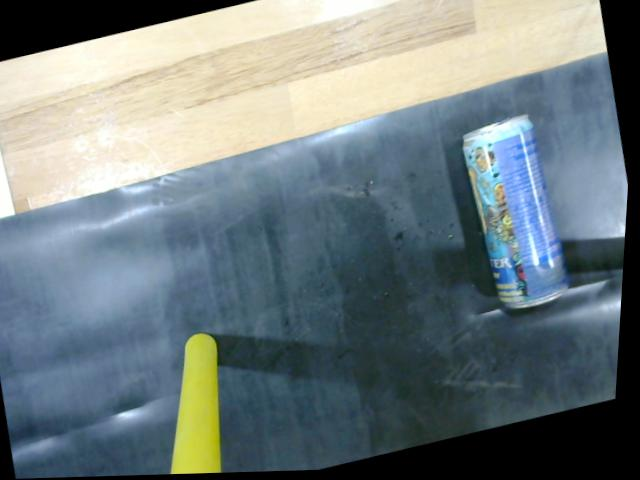can: (457, 112, 583, 319)
